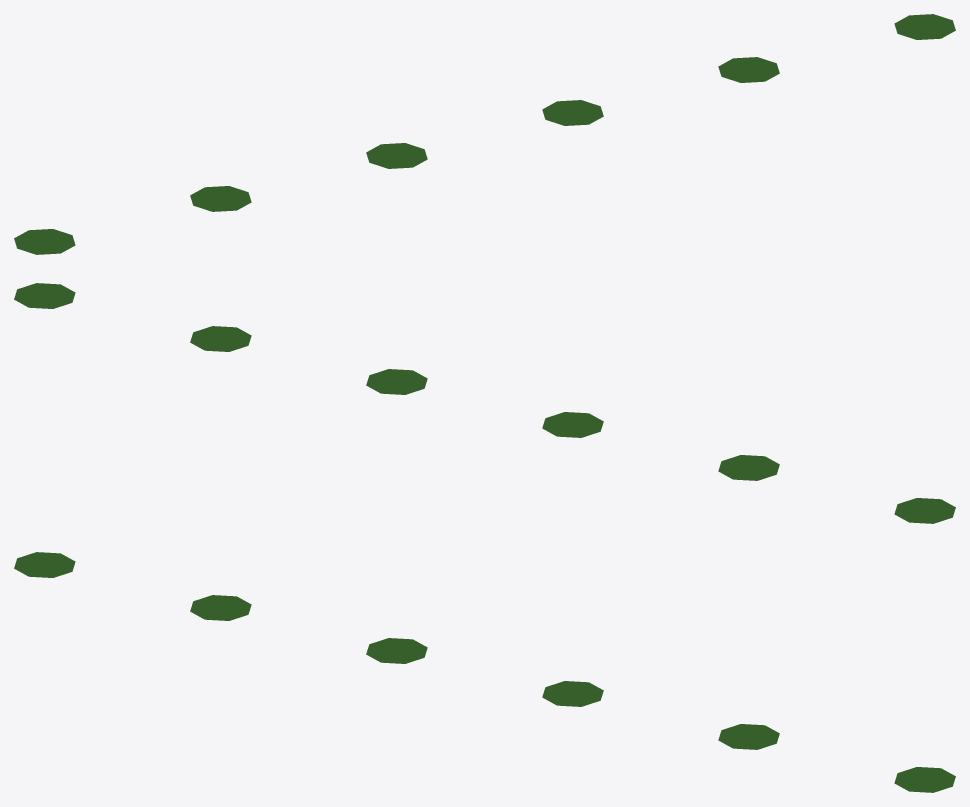
The model's file is cylinder_material.008_0_lev1.glb.
The picture shows the model from 3 angles, top to bottom: view 1: azimuth 30°, elevation 25°; view 2: azimuth 150°, elevation 25°; view 3: azimuth 330°, elevation 25°; orthographic projection.
Visible parts, largest first — view 1: cylinder_material.008_0_lev1; view 2: cylinder_material.008_0_lev1; view 3: cylinder_material.008_0_lev1.
Boxes of the visible parts, x1,y1,x2,y2 form: cylinder_material.008_0_lev1: [14, 14, 955, 254]; cylinder_material.008_0_lev1: [14, 283, 955, 523]; cylinder_material.008_0_lev1: [14, 552, 955, 792].
Bounding box in the file's own units: 26.44 × 5.27e-07 × 1.56.
